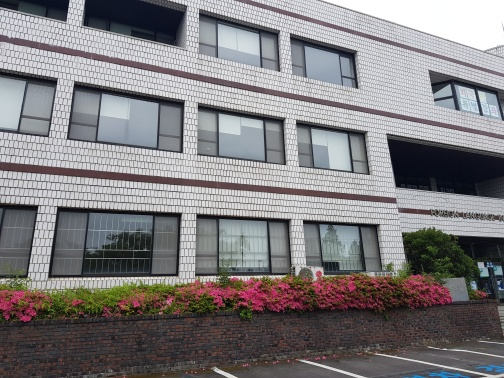Foreign Language Institute: (13, 6, 504, 334), (64, 62, 385, 183)
